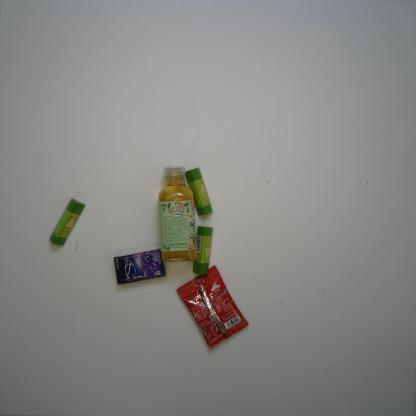Drink: (158, 166, 198, 262)
Gum: (114, 248, 166, 285)
Instant Drink: (176, 265, 249, 350)
Stationery: (50, 198, 86, 246), (185, 166, 213, 216), (192, 226, 214, 276)
